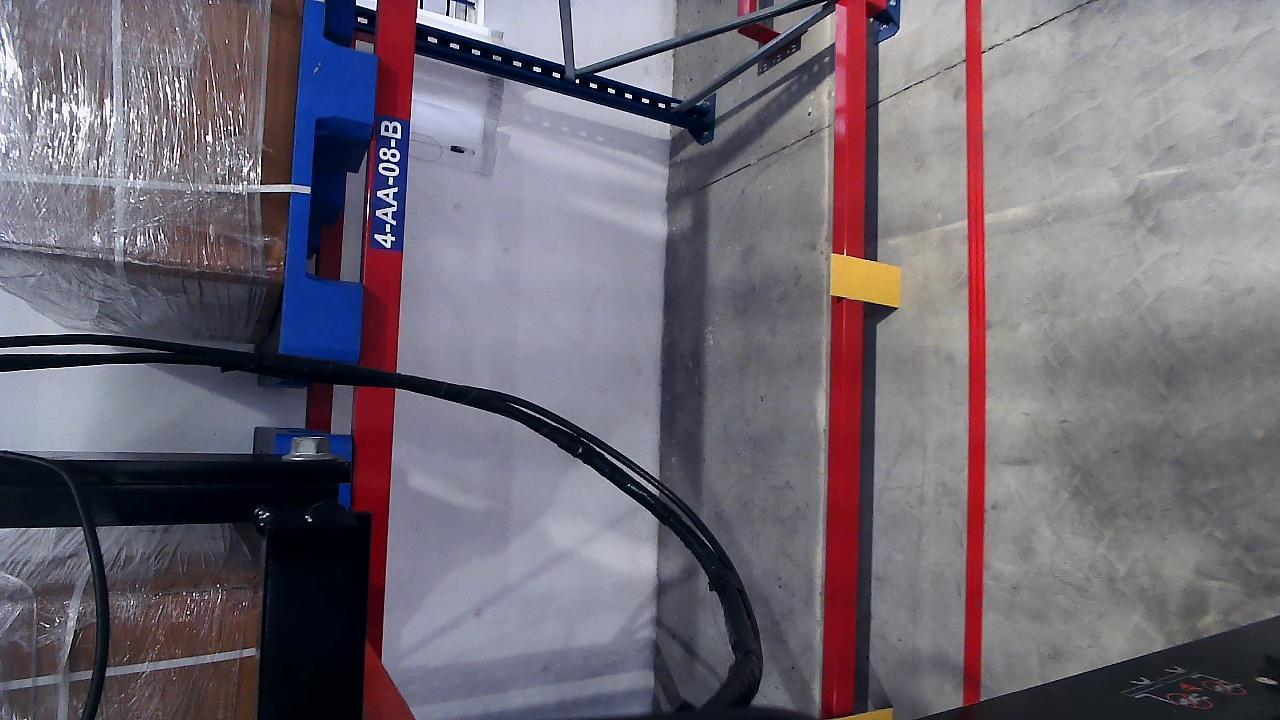red_line: (958, 0, 988, 699)
